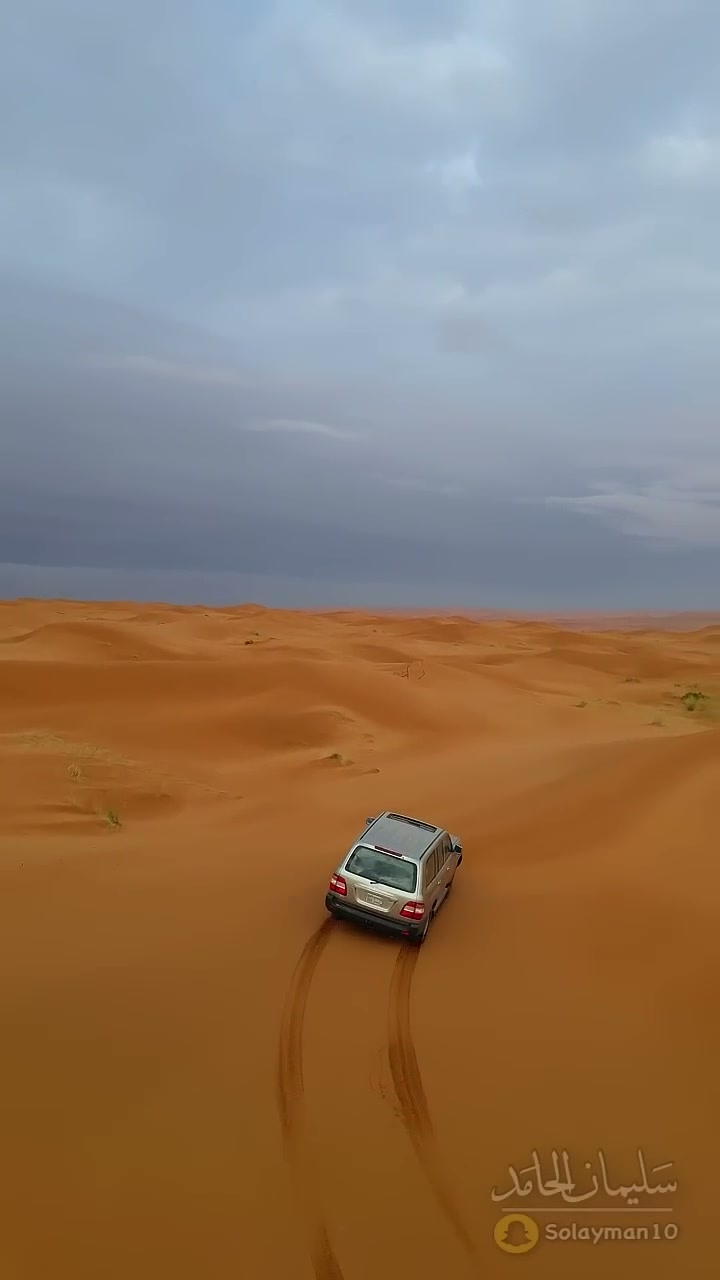vehicle_track: (388, 944, 475, 1257), (277, 919, 342, 1279)
